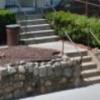stairs: (35, 49, 100, 92), (1, 16, 66, 50)
